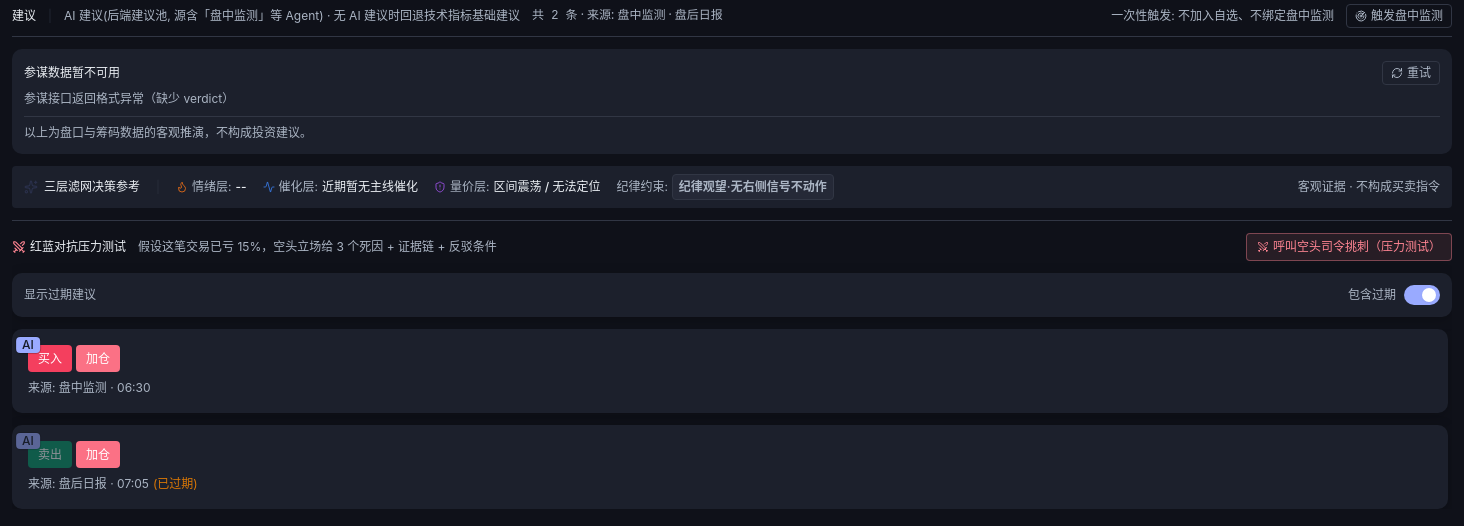
Scenario: Task 12 建议: AI 建议列表(源含盘中监测) › 建议池两条建议各自带来源; 头部给条数+来源清单; 「包含过期」开关拨动后重取
The image size is (1464, 526).
Check: the text "来源: 盘后日报 · 07:05(已过期)" is shown, box [28,474,198,493]
Check: the button "买入 AI" is shown, box [28,345,72,372]
Click the switch named "显示过期建议".
click(1422, 295)  # box [1404,285,1440,305]
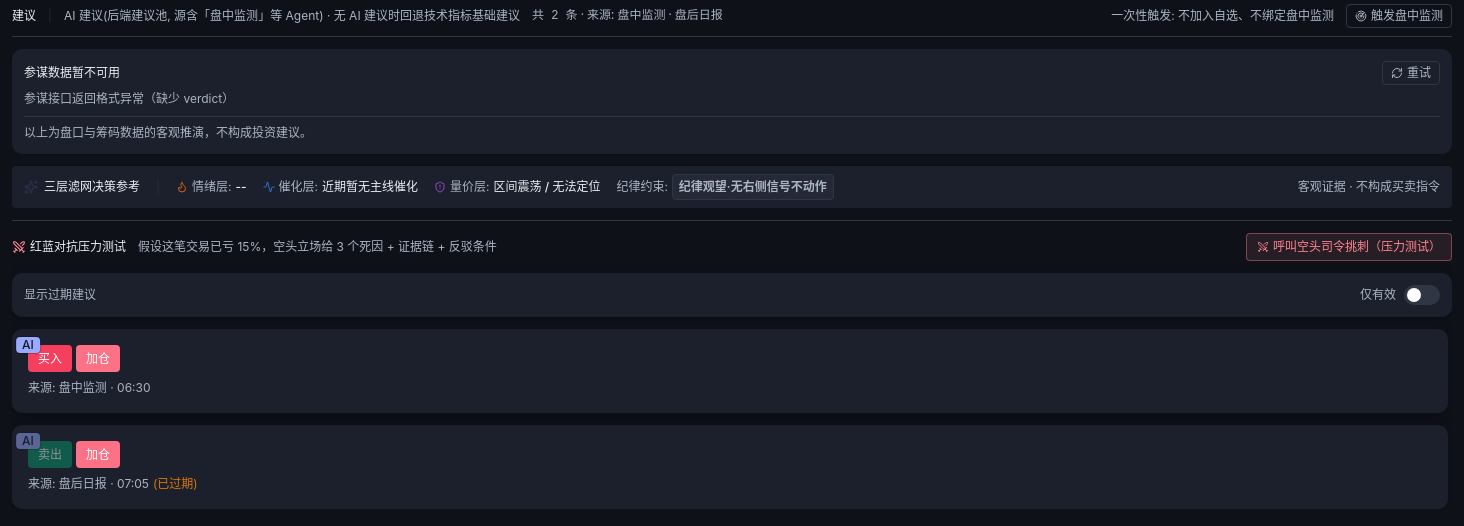
Check: the text "仅有效" is shown, box [1360,285,1396,304]
